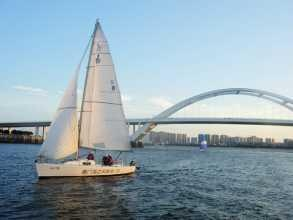fanchuan: (31, 16, 145, 180)
